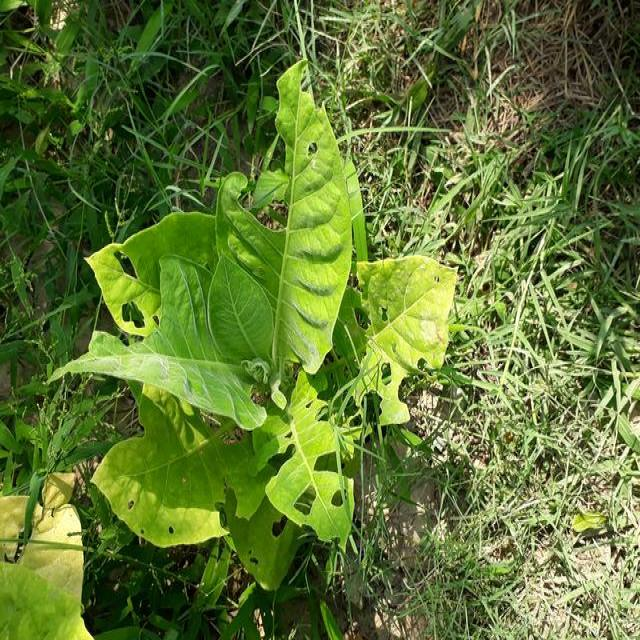crop: (78, 67, 446, 558), (0, 473, 100, 640)
